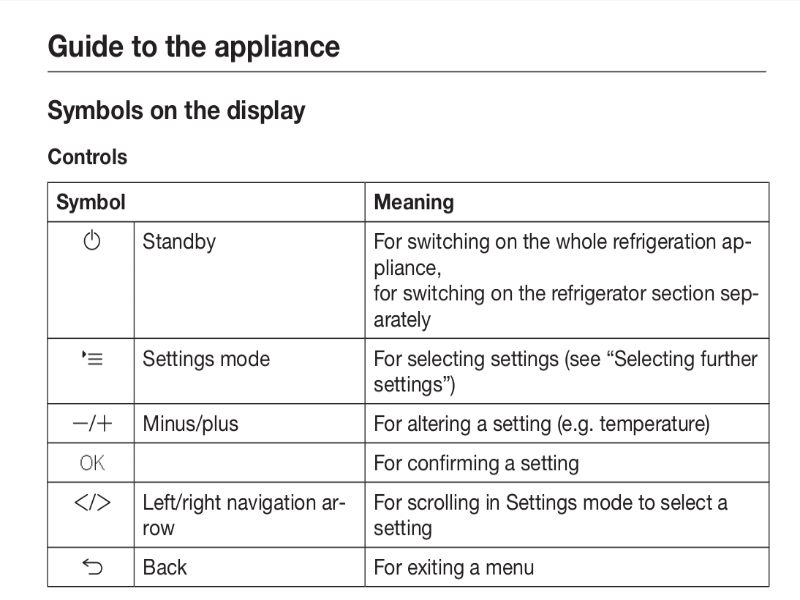border: (34, 170, 782, 594)
cell: (368, 229, 764, 332), (369, 345, 766, 399), (367, 487, 763, 540), (367, 409, 766, 438), (367, 447, 766, 476), (139, 489, 350, 540), (369, 555, 553, 584), (138, 343, 287, 374), (138, 409, 288, 437), (137, 553, 234, 581), (369, 189, 465, 217), (139, 227, 228, 255), (52, 189, 139, 217), (66, 227, 117, 255), (67, 344, 118, 372), (68, 410, 119, 438), (68, 448, 119, 476), (67, 488, 118, 516), (67, 552, 118, 580)
